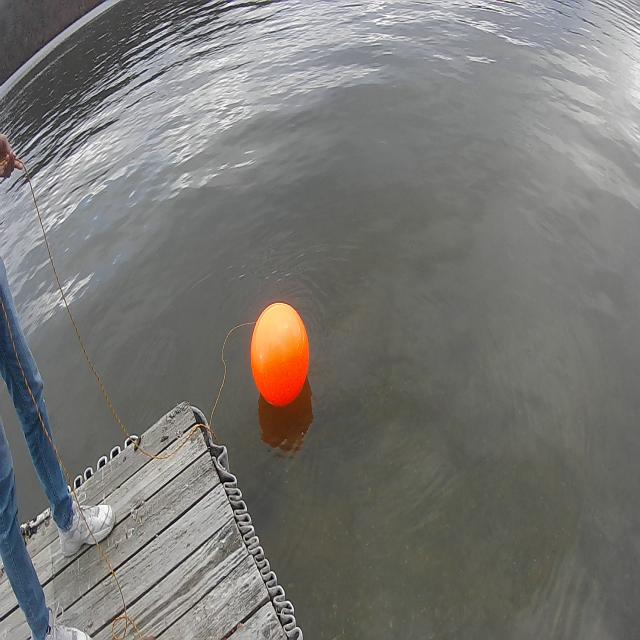Buoy: (247, 298, 313, 412)
